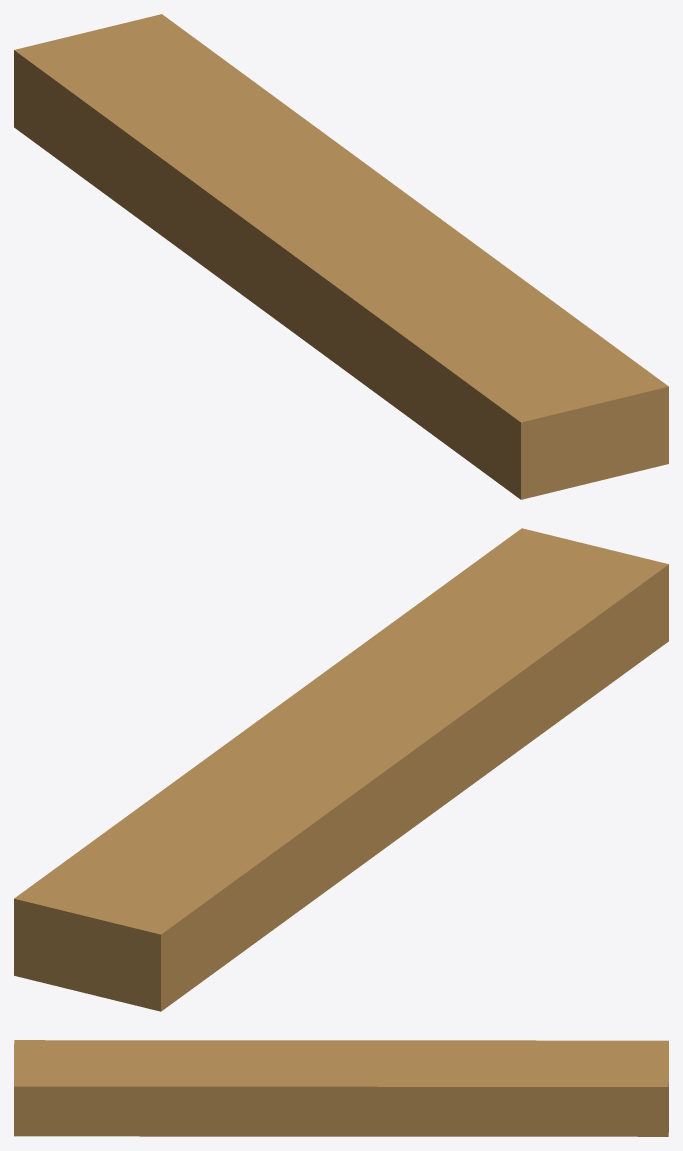
3 renders of one model, top to bottom at view 1: azimuth 30°, elevation 25°; view 2: azimuth 150°, elevation 25°; view 3: azimuth 270°, elevation 25°, orthographic. The views are drawn at different scales.
Parts seen in each view (by area): view 1: RUN-064-S00-NOG-01; view 2: RUN-064-S00-NOG-01; view 3: RUN-064-S00-NOG-01.
Boxes of the visible parts, x1=… form: RUN-064-S00-NOG-01: x1=14, y1=14, x2=668, y2=499; RUN-064-S00-NOG-01: x1=14, y1=528, x2=668, y2=1011; RUN-064-S00-NOG-01: x1=14, y1=1040, x2=668, y2=1136.
Bounding box in the file's own units: 0.0908 × 0.045 × 0.5361.
